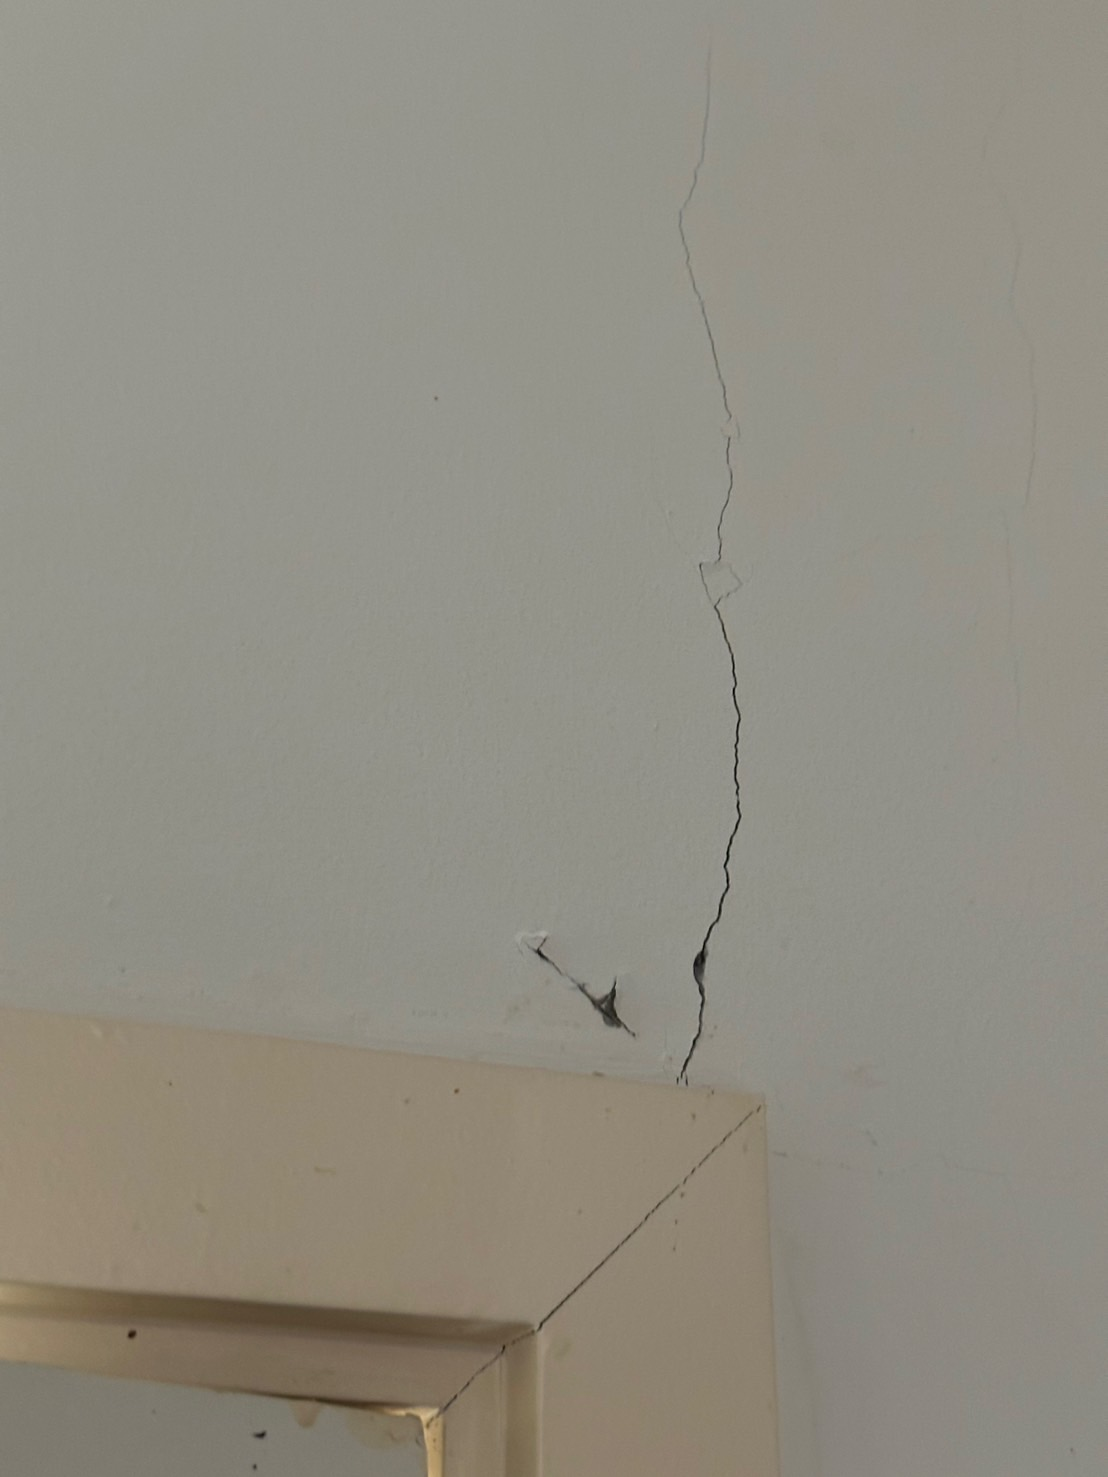Low: (505, 24, 769, 1098)
